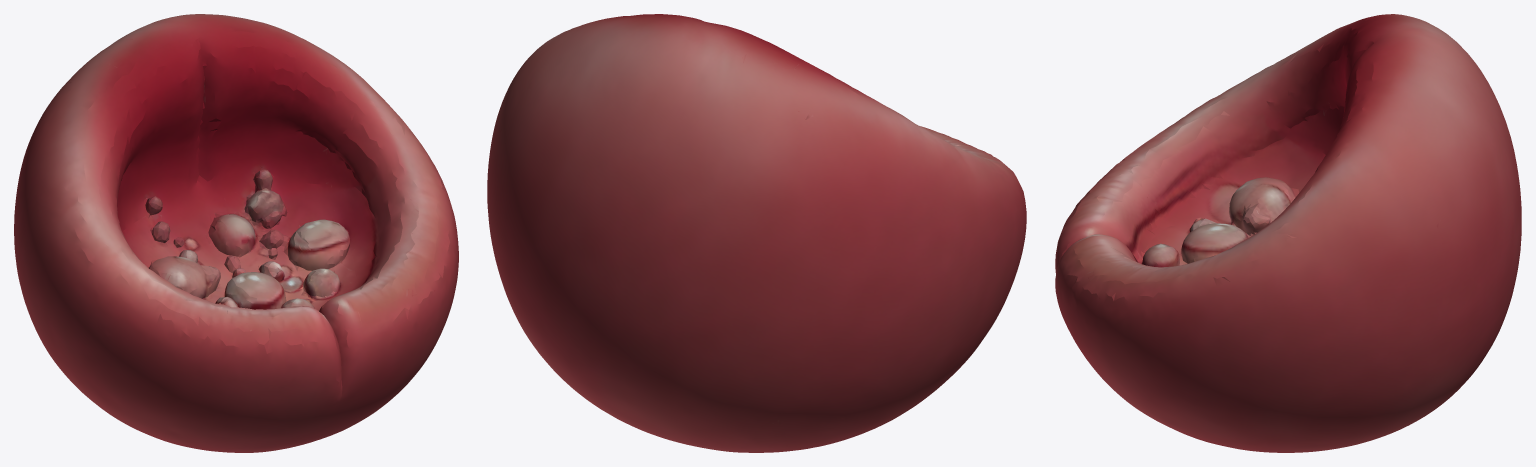
Rendered from bladder_stones.glb.
3 renders of one model, left to right at view 1: azimuth 30°, elevation 25°; view 2: azimuth 150°, elevation 25°; view 3: azimuth 270°, elevation 25°, orthographic. The views are drawn at different scales.
Parts seen in each view (by area): view 1: model; view 2: model; view 3: model.
Boxes of the visible parts, left/top/right/bottom form: model: left=14, top=14, right=458, bottom=452; model: left=487, top=14, right=1026, bottom=452; model: left=1055, top=14, right=1521, bottom=452.
Bounding box in the file's own units: 1.9 × 1.73 × 1.86.
1 material, 1 textured.
